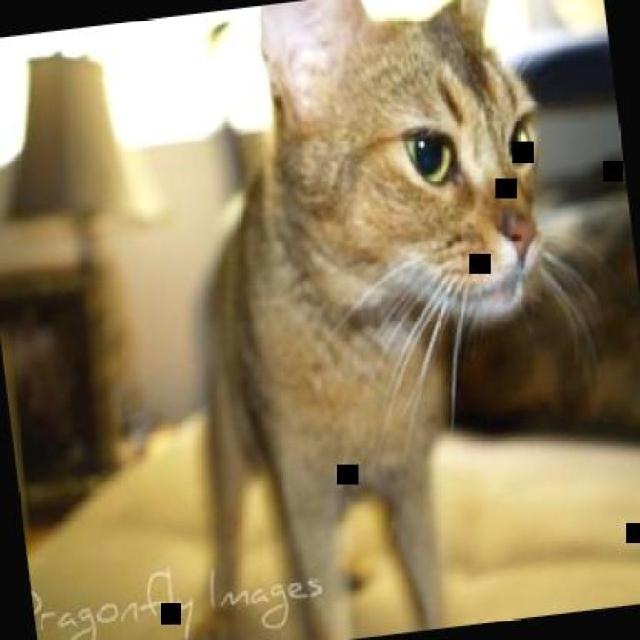cat: (113, 0, 601, 638)
